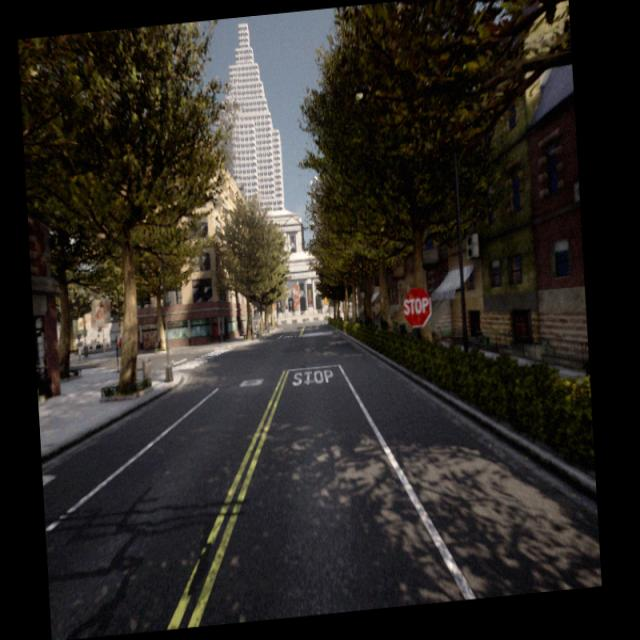stop sign: (400, 284, 434, 329), (402, 295, 430, 316)
